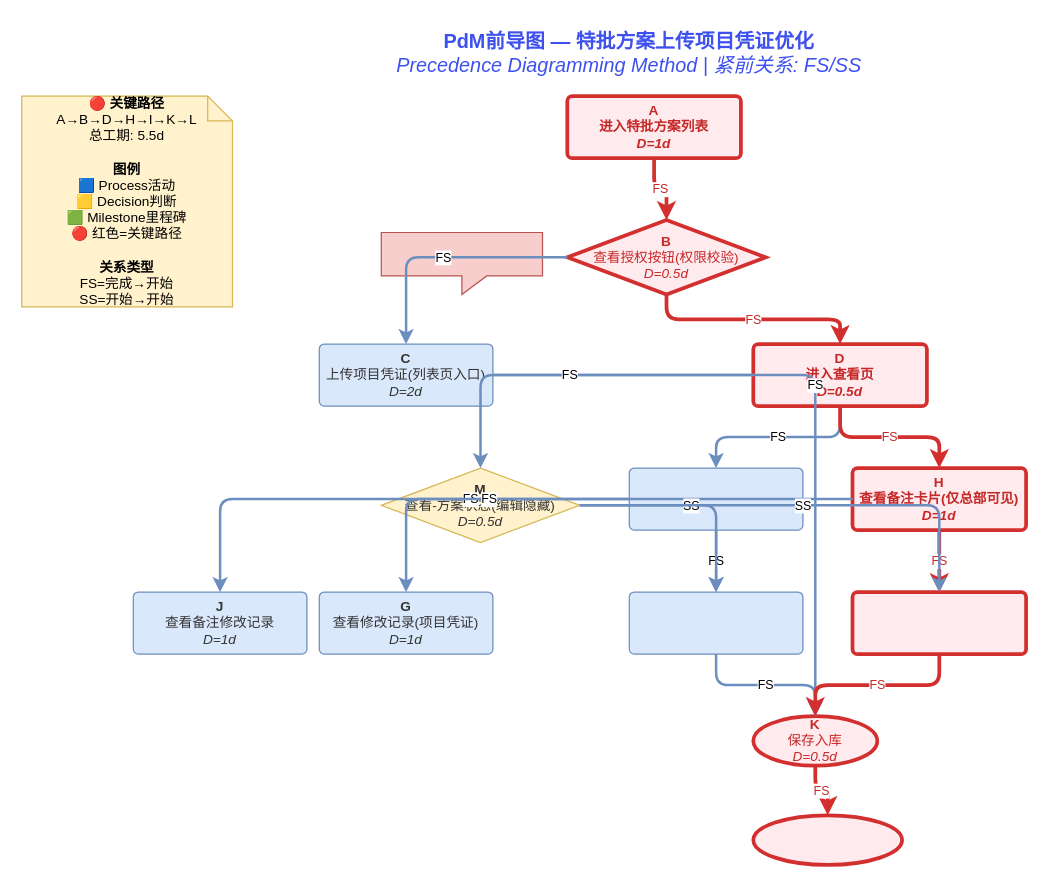
Some shapes in this 1049 by 888 pixel diagram are drawn without their labels. The shapes that lost their labels are listed below. From the top down, each one's centre as x and y in pixels, then its label:
At point 461,262: "权限分叉点B 授权→C(上传)/D(查看) 未授权→无按钮".
At point 715,498: "E 查看凭证卡片 D=1d".
At point 715,622: "F 编辑项目凭证(弹窗→保存) D=2d".
At point 938,622: "I 编辑内部备注(弹窗→保存) D=2d".
At point 827,839: "L 产生修改记录(自动追溯) D=0.5d".
